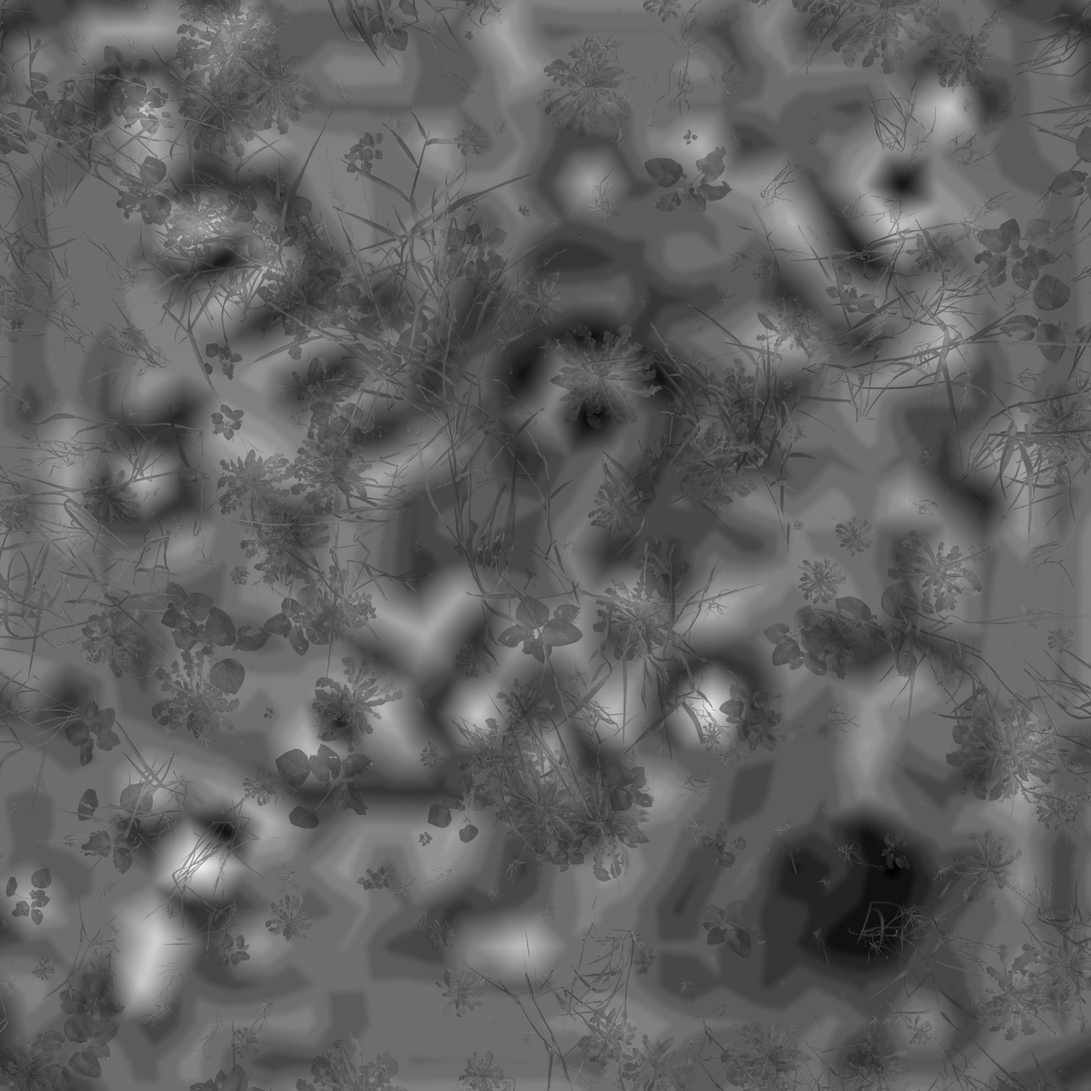landmine: (776, 816, 930, 973), (514, 333, 658, 484)
